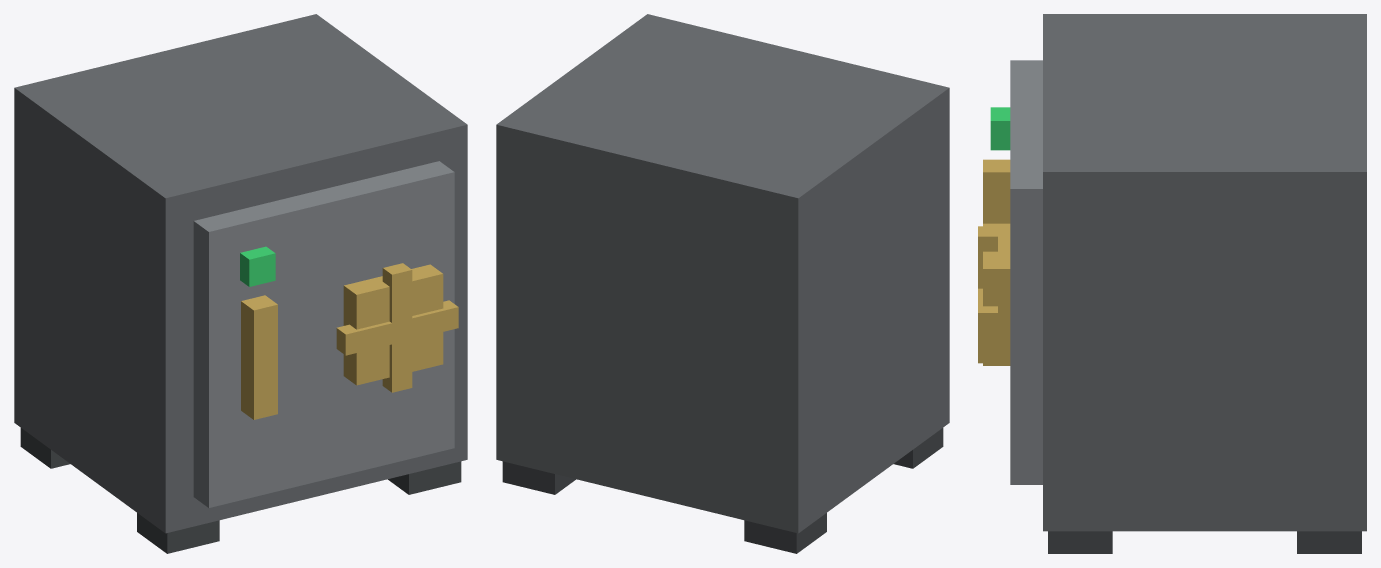
Rendered from coffre.glb.
3 views of the same model, side by side, from view 1: azimuth 30°, elevation 25°; view 2: azimuth 150°, elevation 25°; view 3: azimuth 270°, elevation 25° (orthographic). The views are drawn at different scales.
Visible parts, largest first — view 1: coffre; view 2: coffre; view 3: coffre.
Part boxes in pixels (box(x1,y1,x2,y2)): coffre: box(14, 14, 467, 553); coffre: box(496, 14, 949, 553); coffre: box(978, 14, 1366, 553).
Size of the model in its own units: 0.3 by 0.34 by 0.312.
